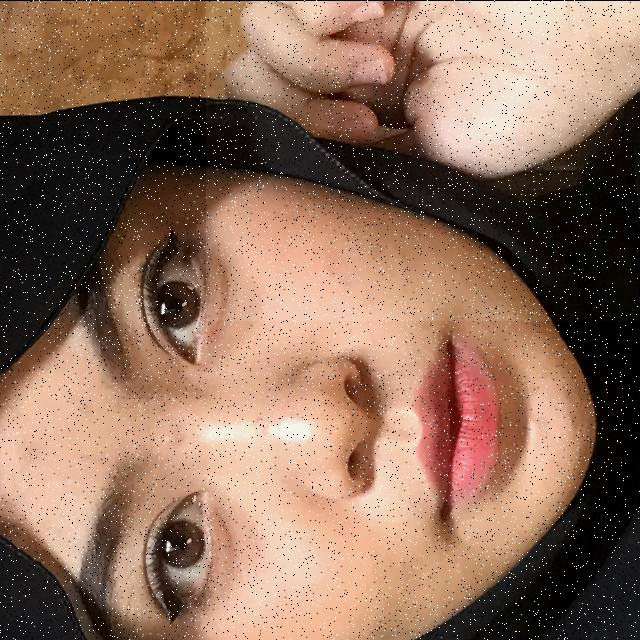ibu: (206, 0, 640, 320)
